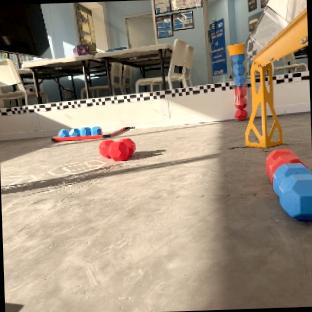Goal: (245, 0, 308, 148)
Parking-R: (52, 126, 135, 140)
V5_BLUE: (267, 149, 312, 220), (58, 126, 102, 138)
V5_RED: (267, 148, 306, 179), (99, 138, 135, 161), (235, 108, 247, 120)
